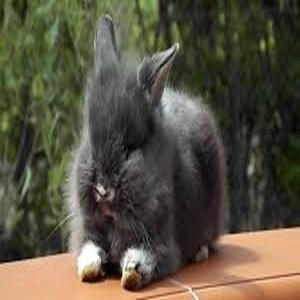rabbit: (68, 16, 226, 286)
